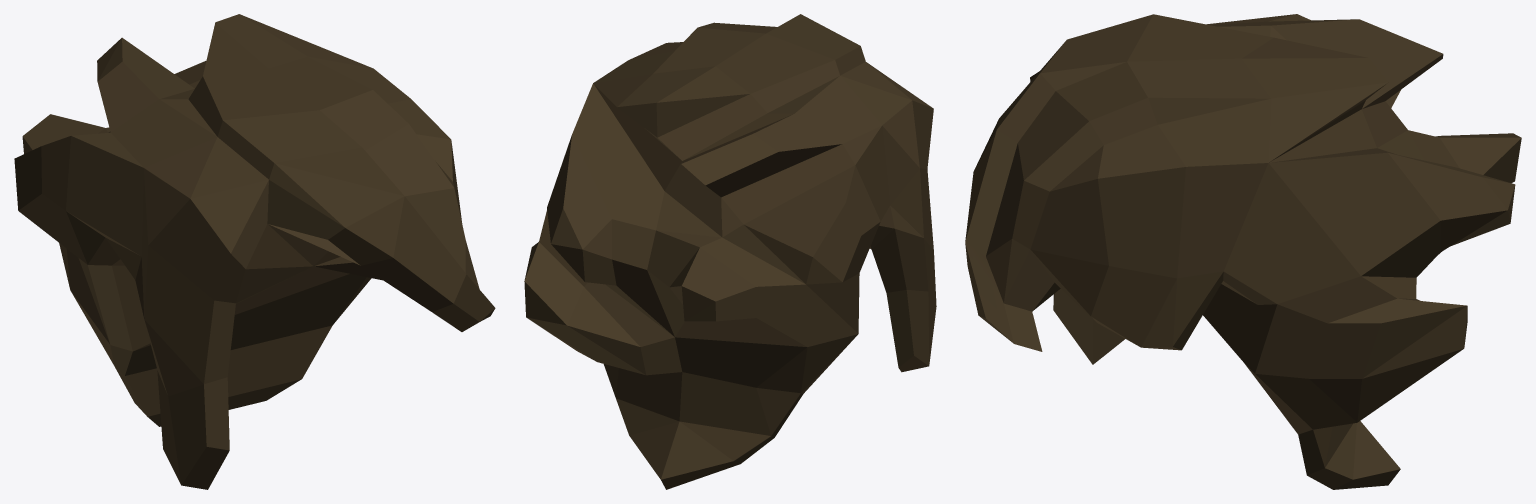
The model's file is Chr_Hair_32_Static.fbx.
3 views of the same model, side by side, from view 1: azimuth 30°, elevation 25°; view 2: azimuth 150°, elevation 25°; view 3: azimuth 270°, elevation 25° (orthographic). The views are drawn at different scales.
Parts seen in each view (by area): view 1: Chr_Hair_32_Static; view 2: Chr_Hair_32_Static; view 3: Chr_Hair_32_Static.
Boxes of the visible parts, box(x1,y1,x2,y2) form: Chr_Hair_32_Static: box(14, 14, 495, 489); Chr_Hair_32_Static: box(524, 14, 936, 489); Chr_Hair_32_Static: box(965, 14, 1521, 489).
Bounding box in the file's own units: 0.2827 × 0.3191 × 0.3678.
